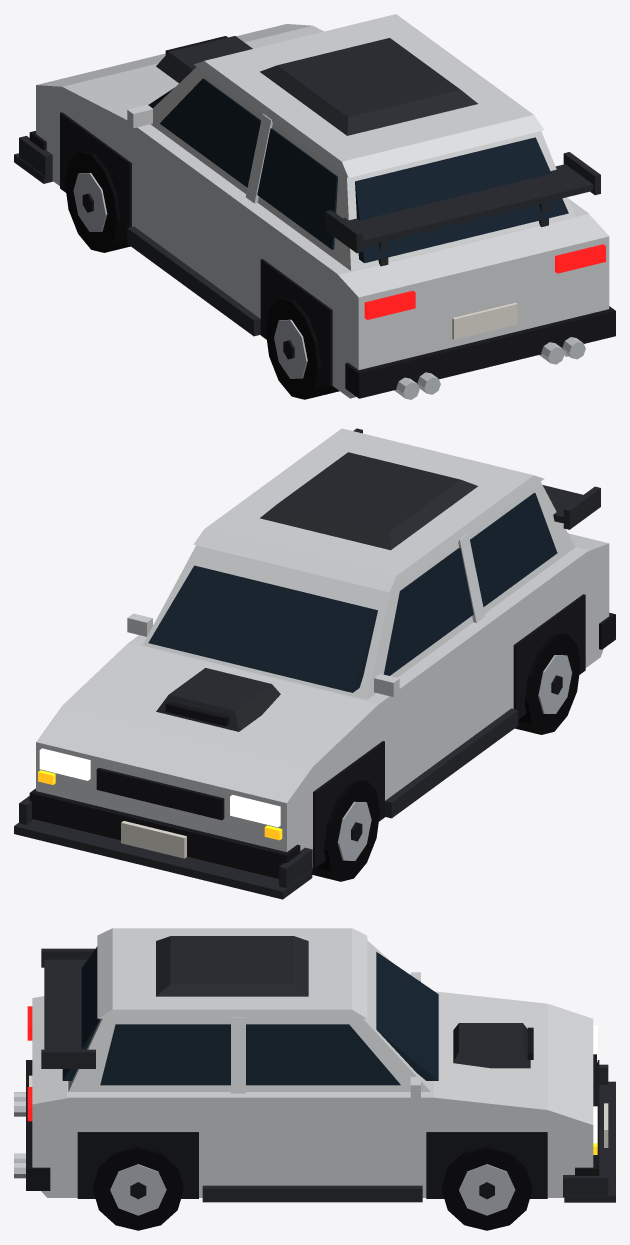
File: car_compact.glb
The picture shows the model from 3 angles, top to bottom: view 1: azimuth 30°, elevation 25°; view 2: azimuth 150°, elevation 25°; view 3: azimuth 270°, elevation 25°; orthographic projection. The views are drawn at different scales.
Parts seen in each view (by area): view 1: car_compact__body, car_compact__mod_roof, car_compact__mod_spoiler, car_compact__wheel_rl, car_compact__wheel_fl, car_compact__mod_skirts, car_compact__mod_hood, car_compact__mod_exhaust, car_compact__mod_bumper; view 2: car_compact__body, car_compact__mod_roof, car_compact__mod_bumper, car_compact__mod_hood, car_compact__wheel_fl, car_compact__wheel_rl, car_compact__mod_skirts, car_compact__mod_spoiler; view 3: car_compact__body, car_compact__mod_roof, car_compact__wheel_fr, car_compact__wheel_rr, car_compact__mod_spoiler, car_compact__mod_skirts, car_compact__mod_hood, car_compact__mod_bumper, car_compact__mod_exhaust.
Boxes of the visible parts, <box> form: car_compact__body: <box>29,14,615,398</box>; car_compact__mod_roof: <box>260,38,477,135</box>; car_compact__mod_spoiler: <box>325,152,600,266</box>; car_compact__wheel_rl: <box>265,297,339,399</box>; car_compact__wheel_fl: <box>65,151,130,252</box>; car_compact__mod_skirts: <box>127,226,260,336</box>; car_compact__mod_hood: <box>156,36,252,82</box>; car_compact__mod_exhaust: <box>394,337,585,399</box>; car_compact__mod_bumper: <box>14,136,52,183</box>; car_compact__body: <box>29,428,615,878</box>; car_compact__mod_roof: <box>260,452,477,550</box>; car_compact__mod_bumper: <box>14,796,312,899</box>; car_compact__mod_hood: <box>156,668,280,731</box>; car_compact__wheel_fl: <box>312,779,379,881</box>; car_compact__wheel_rl: <box>515,633,580,734</box>; car_compact__mod_skirts: <box>385,708,518,818</box>; car_compact__mod_spoiler: <box>353,428,600,529</box>; car_compact__body: <box>26,928,608,1198</box>; car_compact__mod_roof: <box>156,936,308,996</box>; car_compact__wheel_fr: <box>441,1147,532,1230</box>; car_compact__wheel_rr: <box>93,1146,183,1230</box>; car_compact__mod_spoiler: <box>41,948,95,1068</box>; car_compact__mod_skirts: <box>202,1185,422,1202</box>; car_compact__mod_hood: <box>453,1023,533,1068</box>; car_compact__mod_bumper: <box>563,1064,615,1202</box>; car_compact__mod_exhaust: <box>14,1092,25,1178</box>.
Size of the model in its own units: 1.79 by 1.56 by 3.97.
